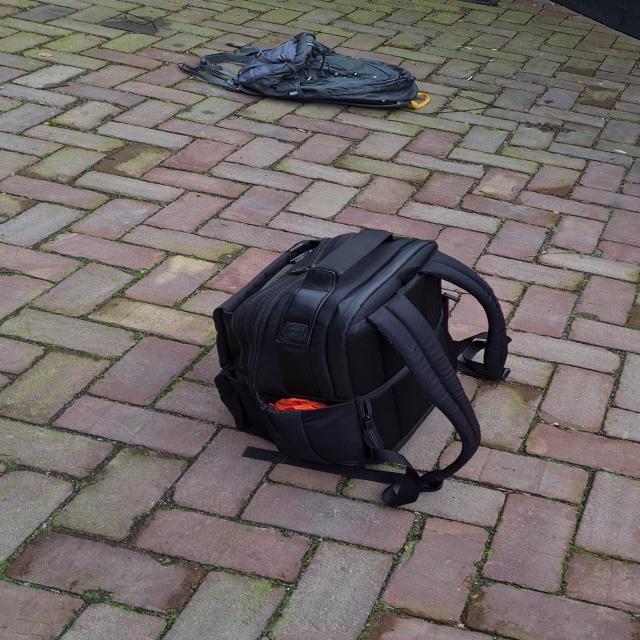backpack: (215, 229, 517, 513)
